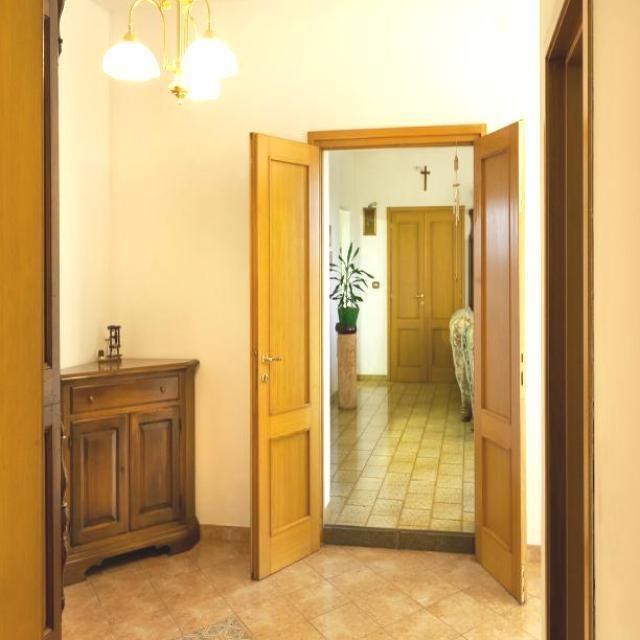door: (249, 131, 323, 580), (476, 120, 528, 604)
